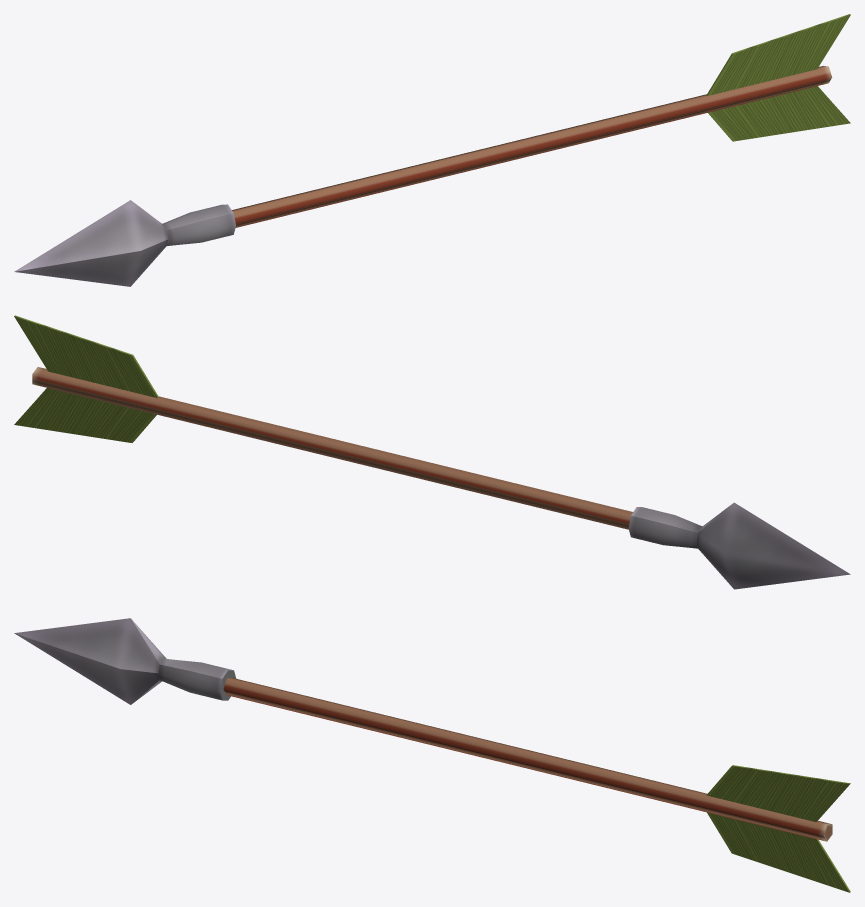
The model's file is Arrow.FBX.
The picture shows the model from 3 angles, top to bottom: view 1: azimuth 30°, elevation 25°; view 2: azimuth 150°, elevation 25°; view 3: azimuth 330°, elevation 25°; orthographic projection.
Visible parts, largest first — view 1: Arrow; view 2: Arrow; view 3: Arrow.
Part boxes in pixels (left/top/right/bottom): Arrow: left=14, top=14, right=850, bottom=286; Arrow: left=14, top=315, right=850, bottom=589; Arrow: left=14, top=618, right=850, bottom=892.
Size of the model in its own units: 25.06 by 3.11 by 1.06.
